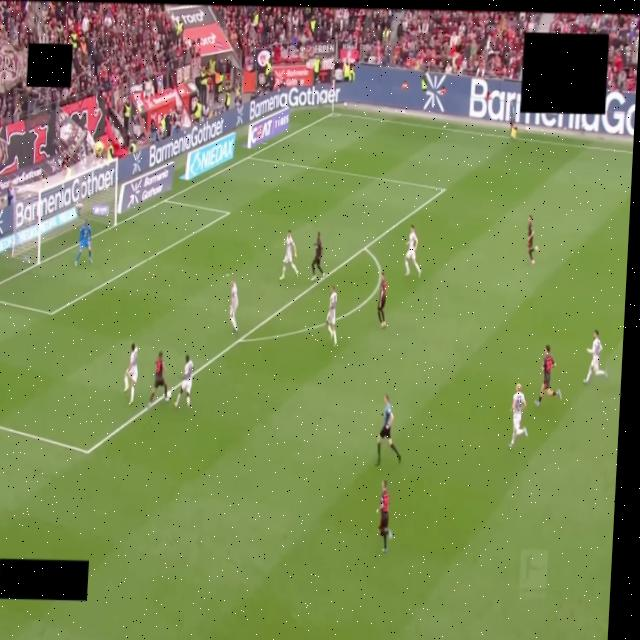ball: (167, 391, 171, 398)
player: (536, 345, 561, 405), (148, 352, 169, 408), (584, 330, 606, 383), (509, 384, 527, 447), (377, 480, 392, 552), (174, 356, 193, 407), (280, 231, 298, 280), (405, 225, 421, 277), (124, 343, 137, 404), (75, 220, 92, 265), (311, 232, 324, 280), (527, 215, 539, 265), (327, 287, 337, 346), (377, 273, 387, 328), (230, 279, 238, 333)
referee: (376, 395, 401, 465)
